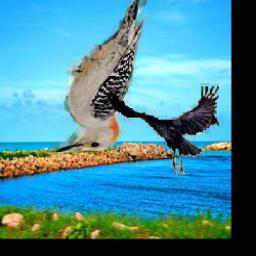Crow: (107, 83, 219, 175)
Woodpecker: (51, 0, 150, 161)
